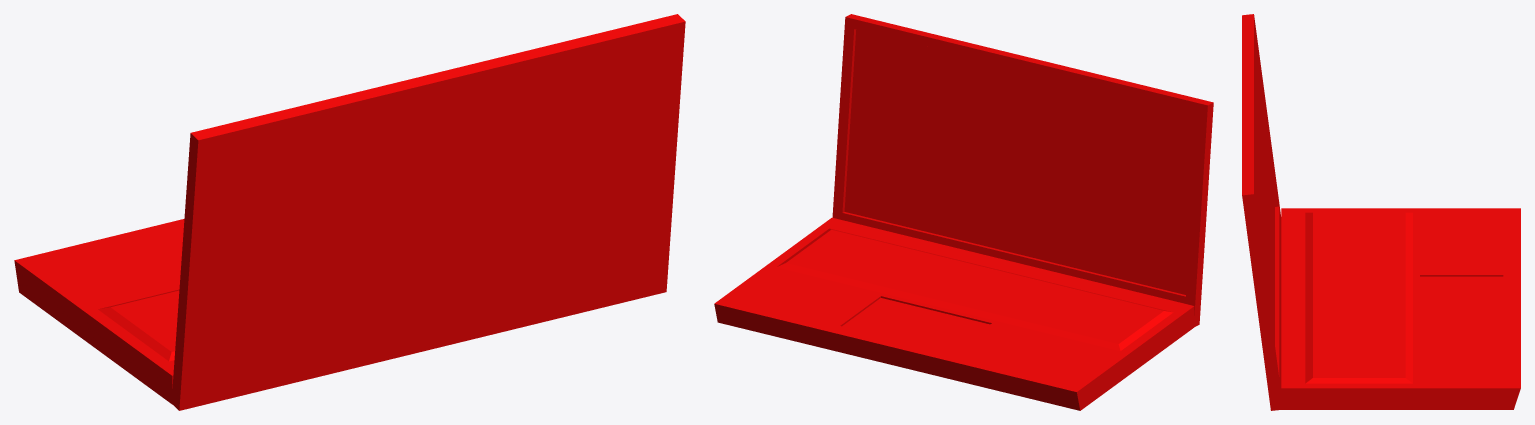
The picture shows the model from 3 angles, left to right: view 1: azimuth 30°, elevation 25°; view 2: azimuth 150°, elevation 25°; view 3: azimuth 270°, elevation 25°; orthographic projection. The views are drawn at different scales.
Visible parts, largest first — view 1: pCube9, pCube10; view 2: pCube9, pCube10; view 3: pCube10, pCube9.
Boxes of the visible parts, left/top/right/bottom form: pCube9: left=172, top=14, right=685, bottom=410; pCube10: left=14, top=219, right=184, bottom=404; pCube9: left=832, top=14, right=1213, bottom=326; pCube10: left=714, top=217, right=1194, bottom=410; pCube10: left=1281, top=208, right=1520, bottom=409; pCube9: left=1242, top=14, right=1282, bottom=410.
Bounding box in the file's own units: 35.4 × 19.88 × 23.16.
